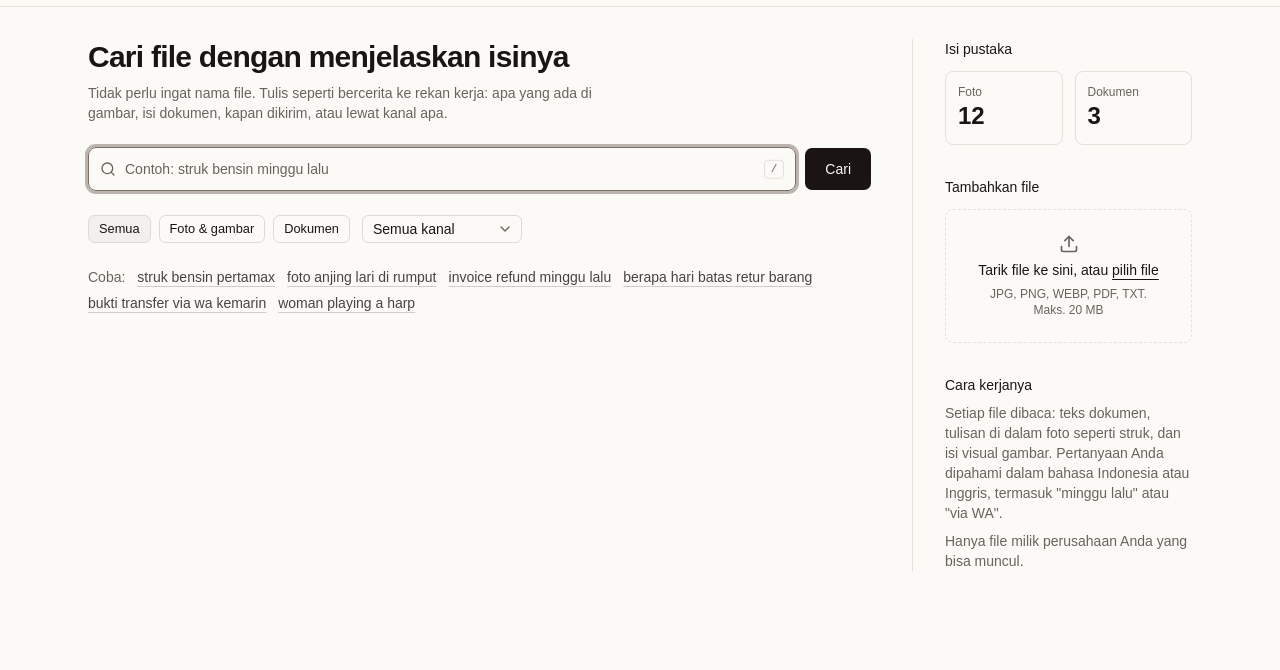
Test: App › keeps the preview open when delete fails
This screenshot has width=1280, height=670.
expect the text with test id "stat-image" reads "12": met, box x1=958 y1=102 x2=985 y2=129
Type "struk bensin" into the field with test id "search-input". click: (442, 169)
box: x1=88 y1=147 x2=796 y2=191
Then press Enter
(page scrolled)
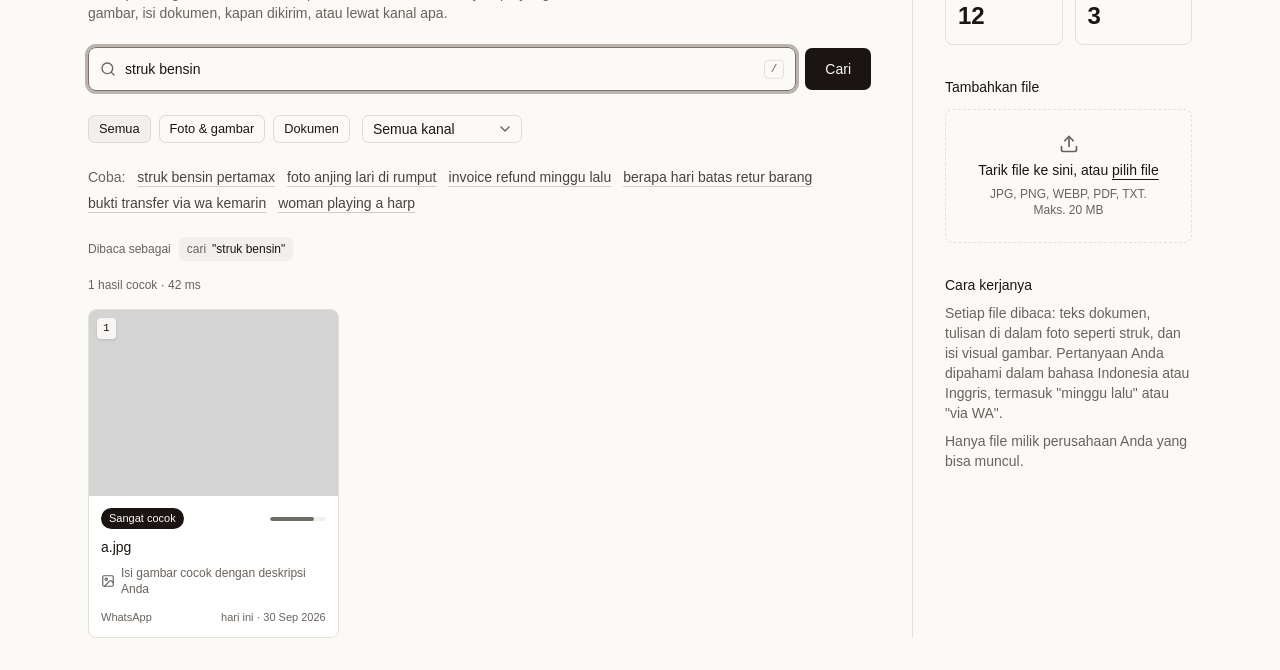
Click the button with test id "result-card". click: (213, 474)
box: x1=88 y1=309 x2=339 y2=638
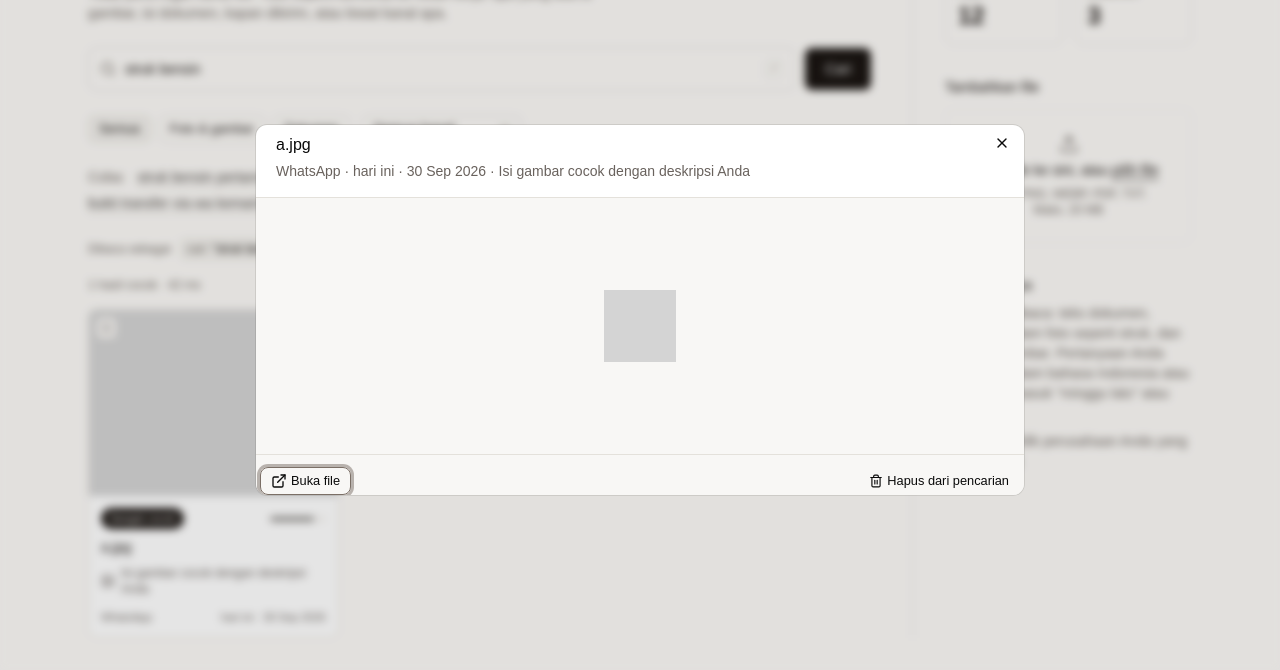
Click the button with test id "preview-delete". click: (939, 481)
box: x1=858 y1=467 x2=1020 y2=495
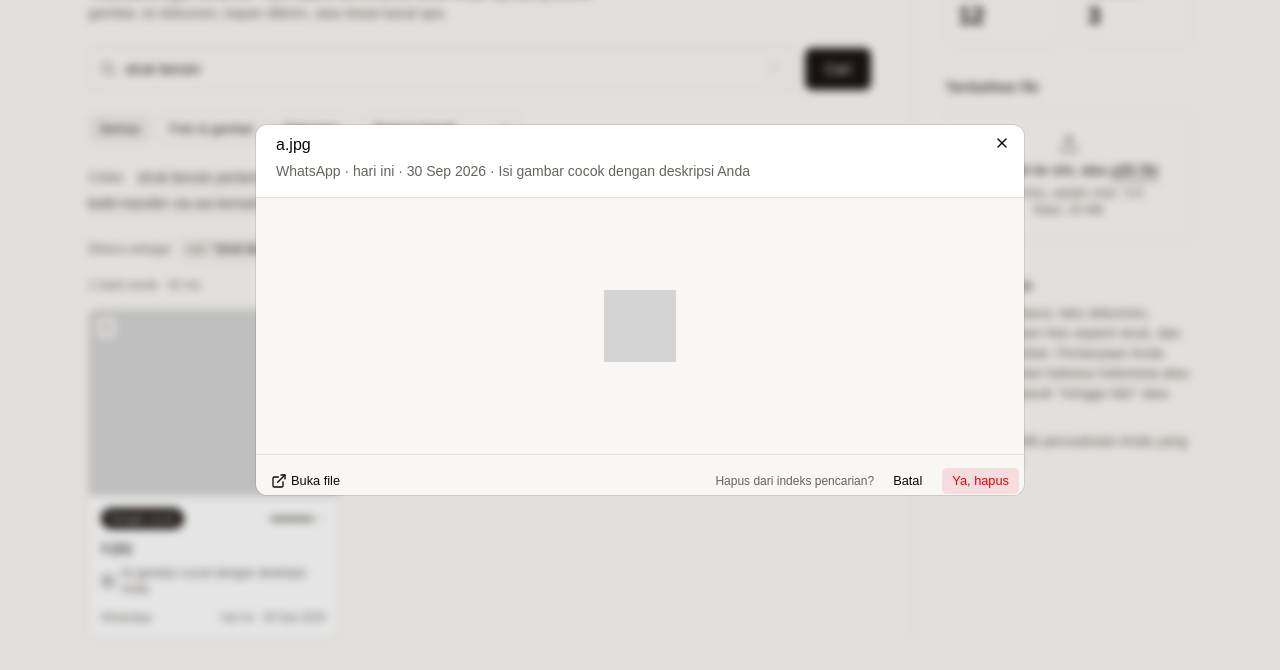
Click the button with test id "preview-delete-confirm". click: (981, 481)
box: x1=941 y1=467 x2=1020 y2=495
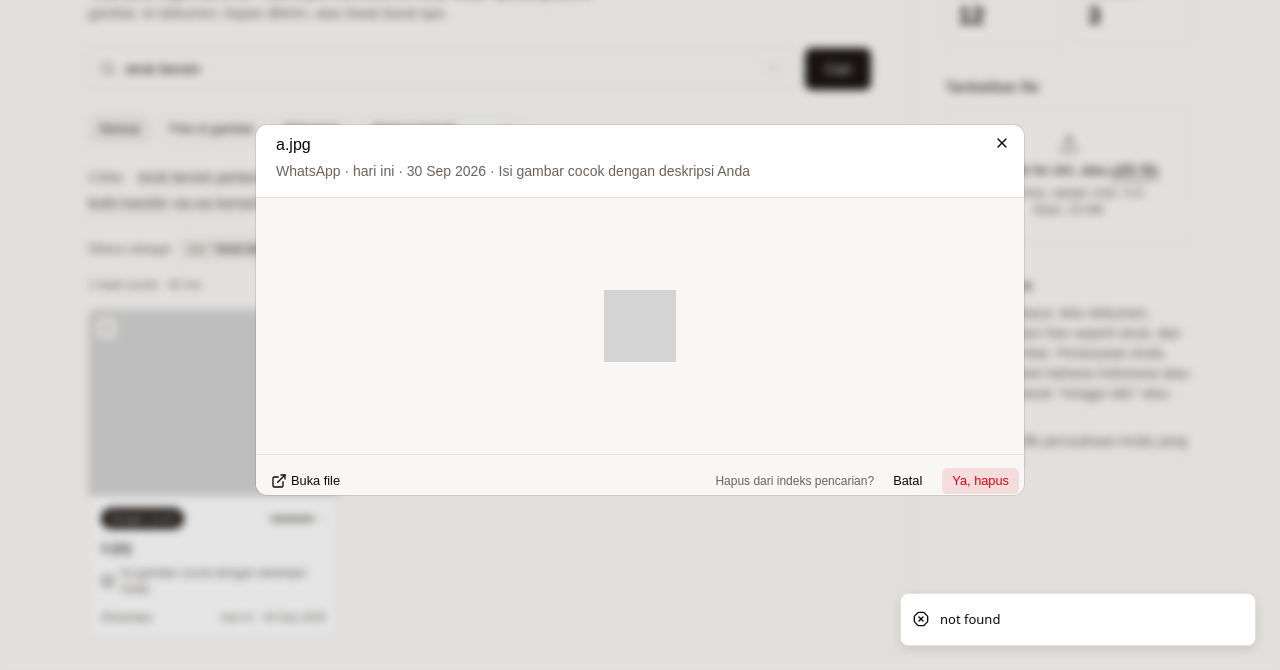
expect the dialog with test id "preview" is shown: met, box x1=256 y1=125 x2=1024 y2=495
expect the text "not found" is shown: met, box x1=940 y1=610 x2=1000 y2=629
